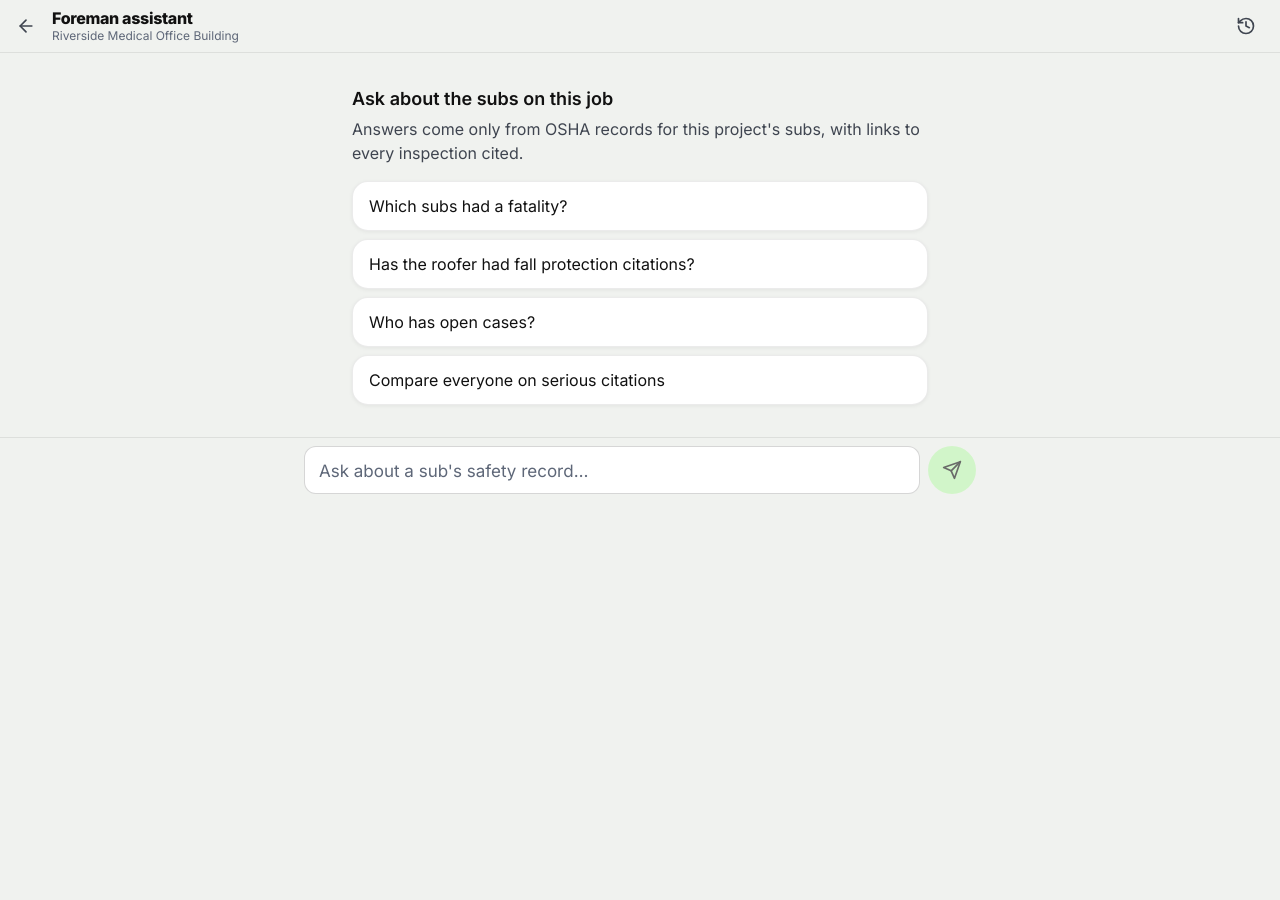
Foreman chat › opens a cited inspection's record in the app, with osha.gov as a secondary link
Click the button "Which subs had a fatality?".
click(468, 206)  # box [352,181,928,231]
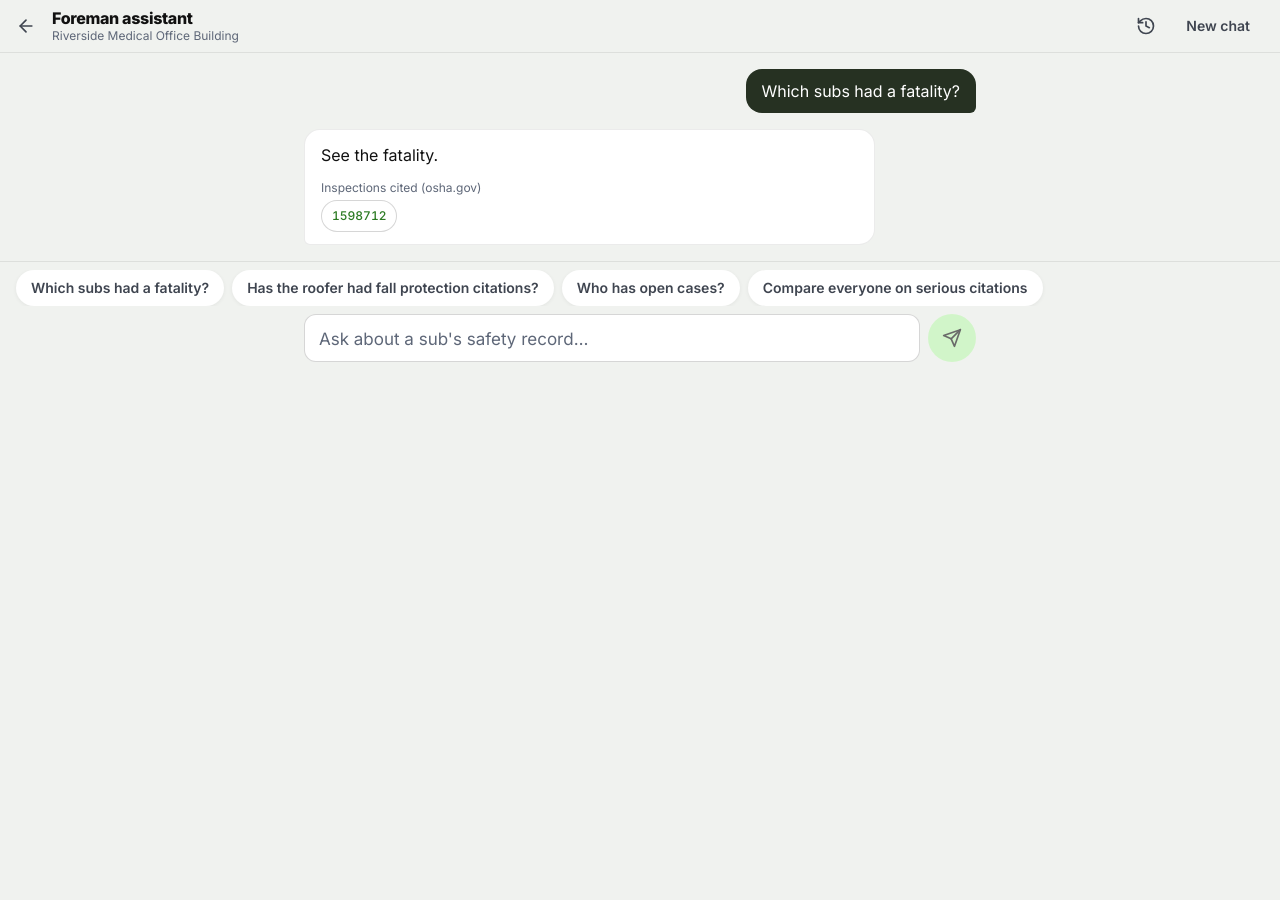
Click the button named "Inspection 1598712: show the record".
click(359, 216)  # box [321,200,397,232]
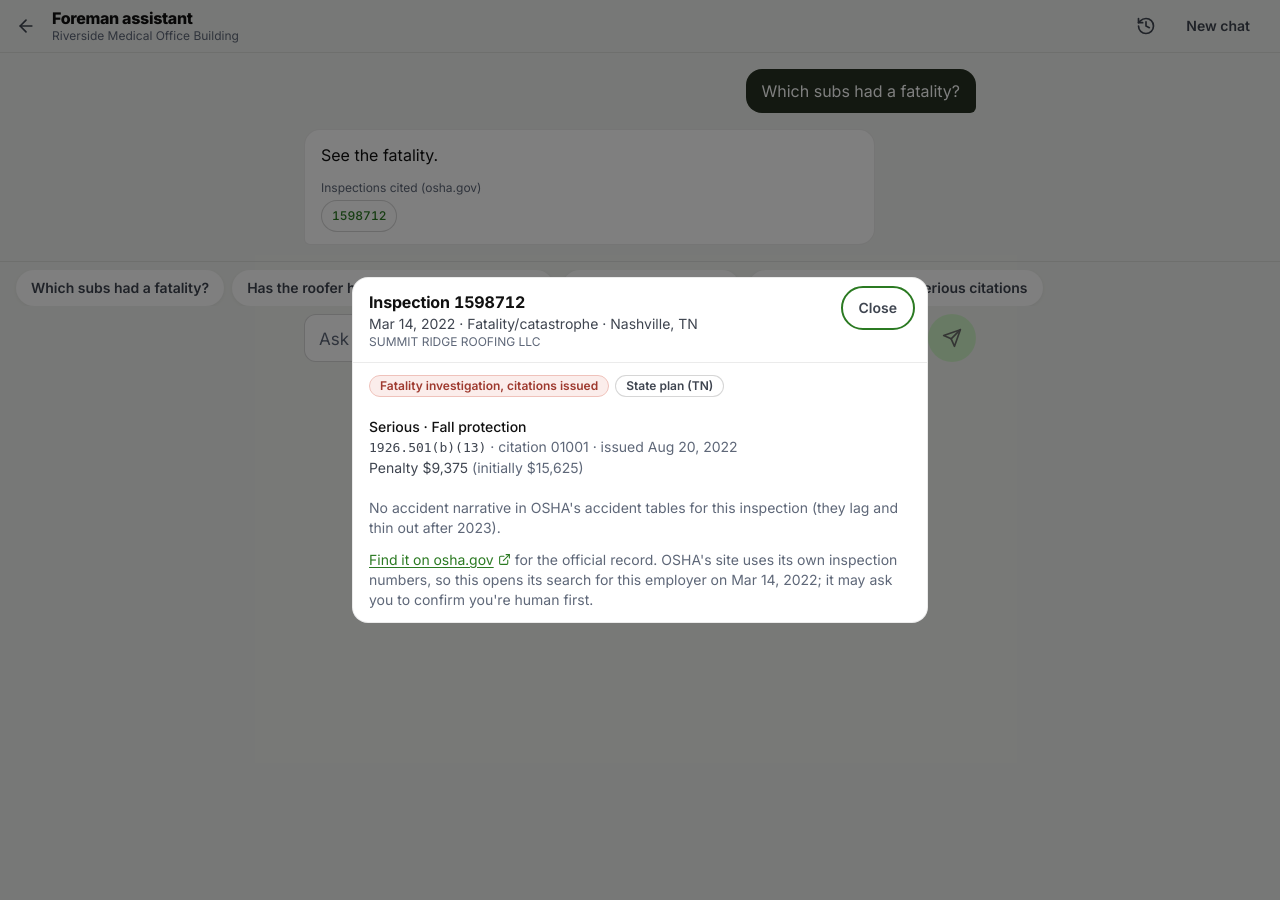
expect the text "Serious · Fall protection" is shown: met, box [369,418,526,435]
expect the text "SUMMIT RIDGE ROOFING LLC" is shown: met, box [369,334,540,349]
Click the button "Close".
click(878, 308)  # box [844,290,911,326]
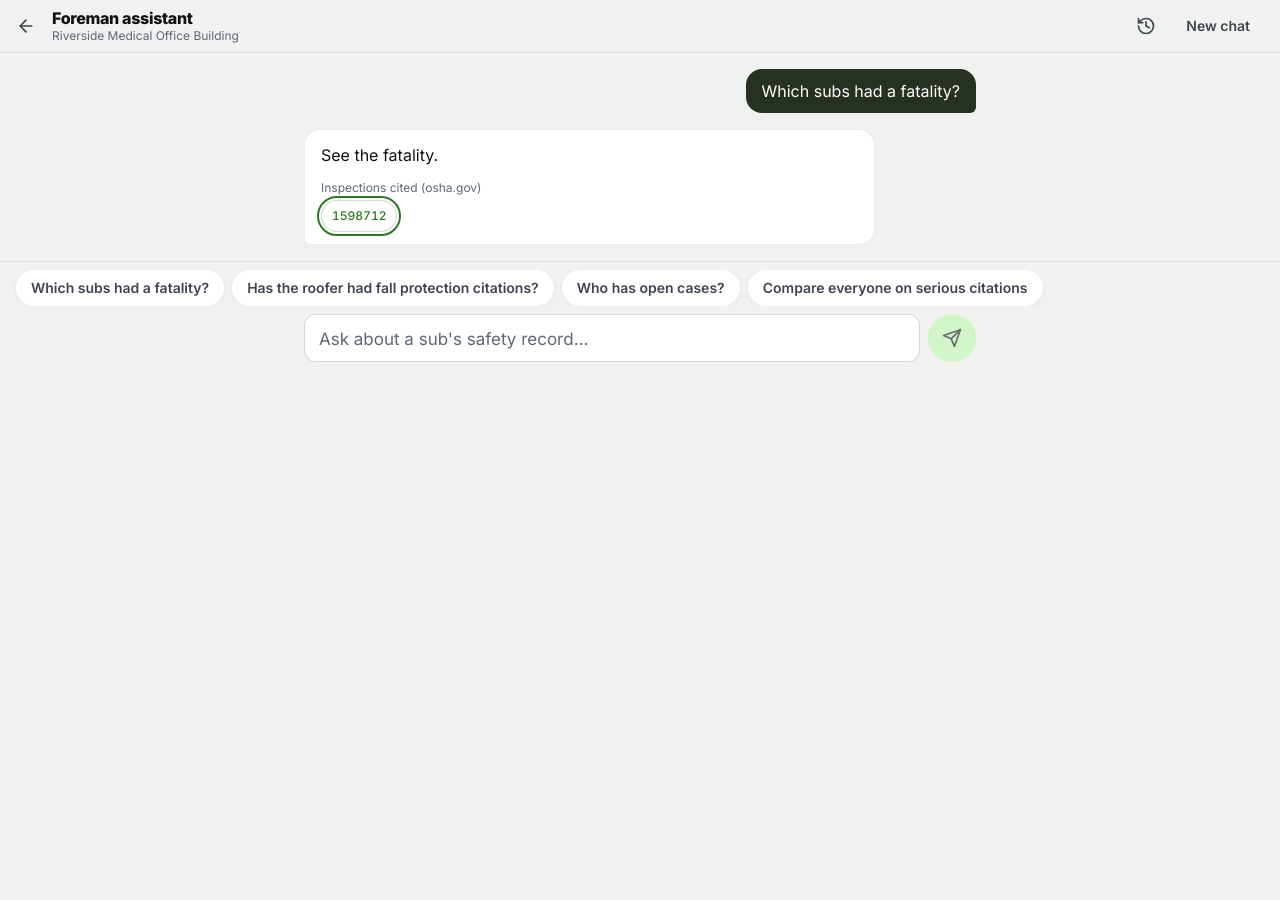
expect the dialog is gone: met
